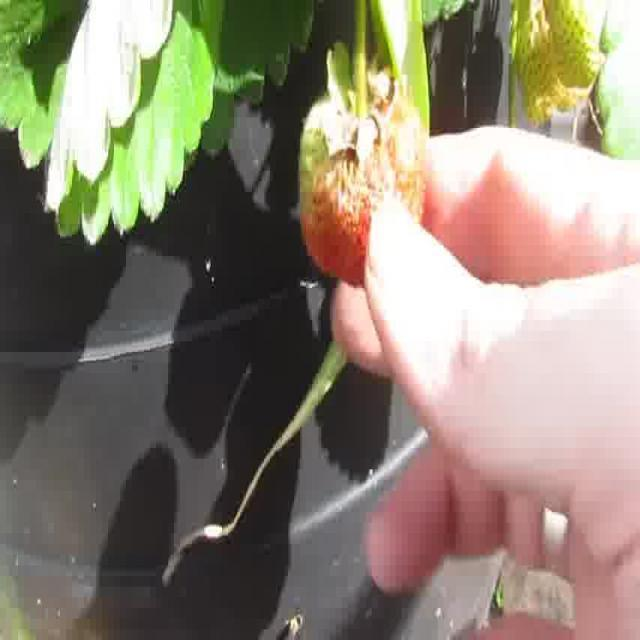Fruta sana: (294, 78, 434, 290), (514, 3, 574, 128), (550, 8, 602, 114), (550, 2, 611, 92)
